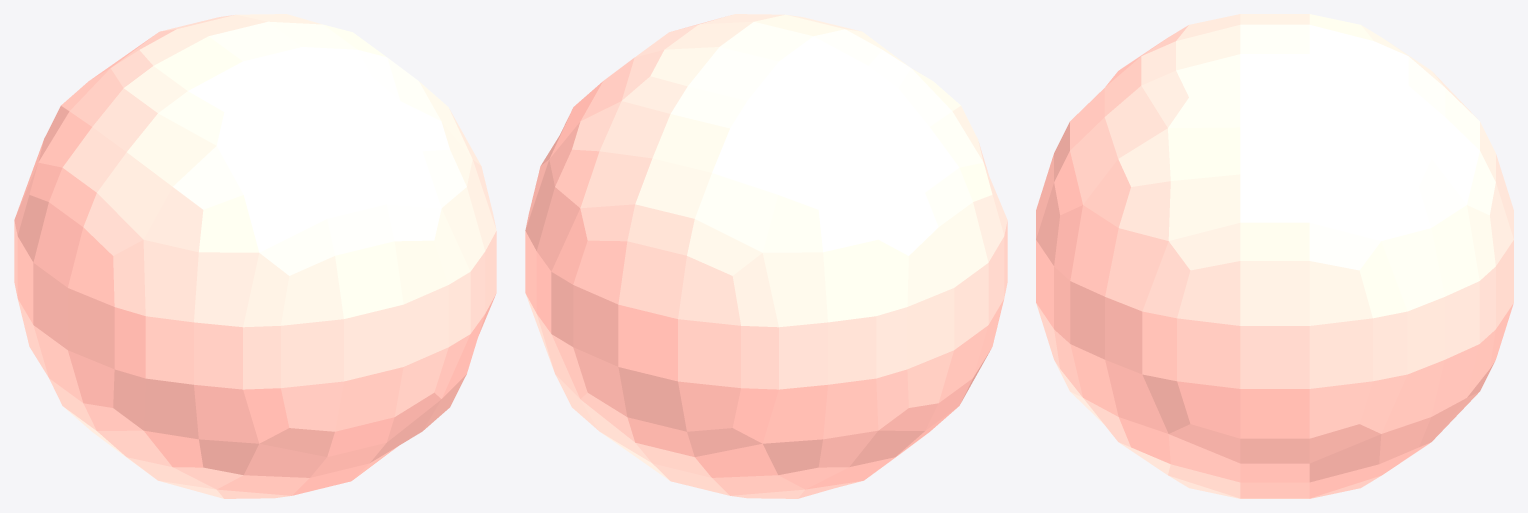
File: Energizer.glb
3 renders of one model, left to right at view 1: azimuth 30°, elevation 25°; view 2: azimuth 150°, elevation 25°; view 3: azimuth 270°, elevation 25°, orthographic.
Visible parts, largest first — view 1: Sphere.001; view 2: Sphere.001; view 3: Sphere.001.
Boxes of the visible parts, x1,y1,x2,y2 form: Sphere.001: (14,14,496,498); Sphere.001: (525,14,1007,498); Sphere.001: (1036,14,1513,498).
Bounding box in the file's own units: 1.91 × 1.91 × 1.91.
